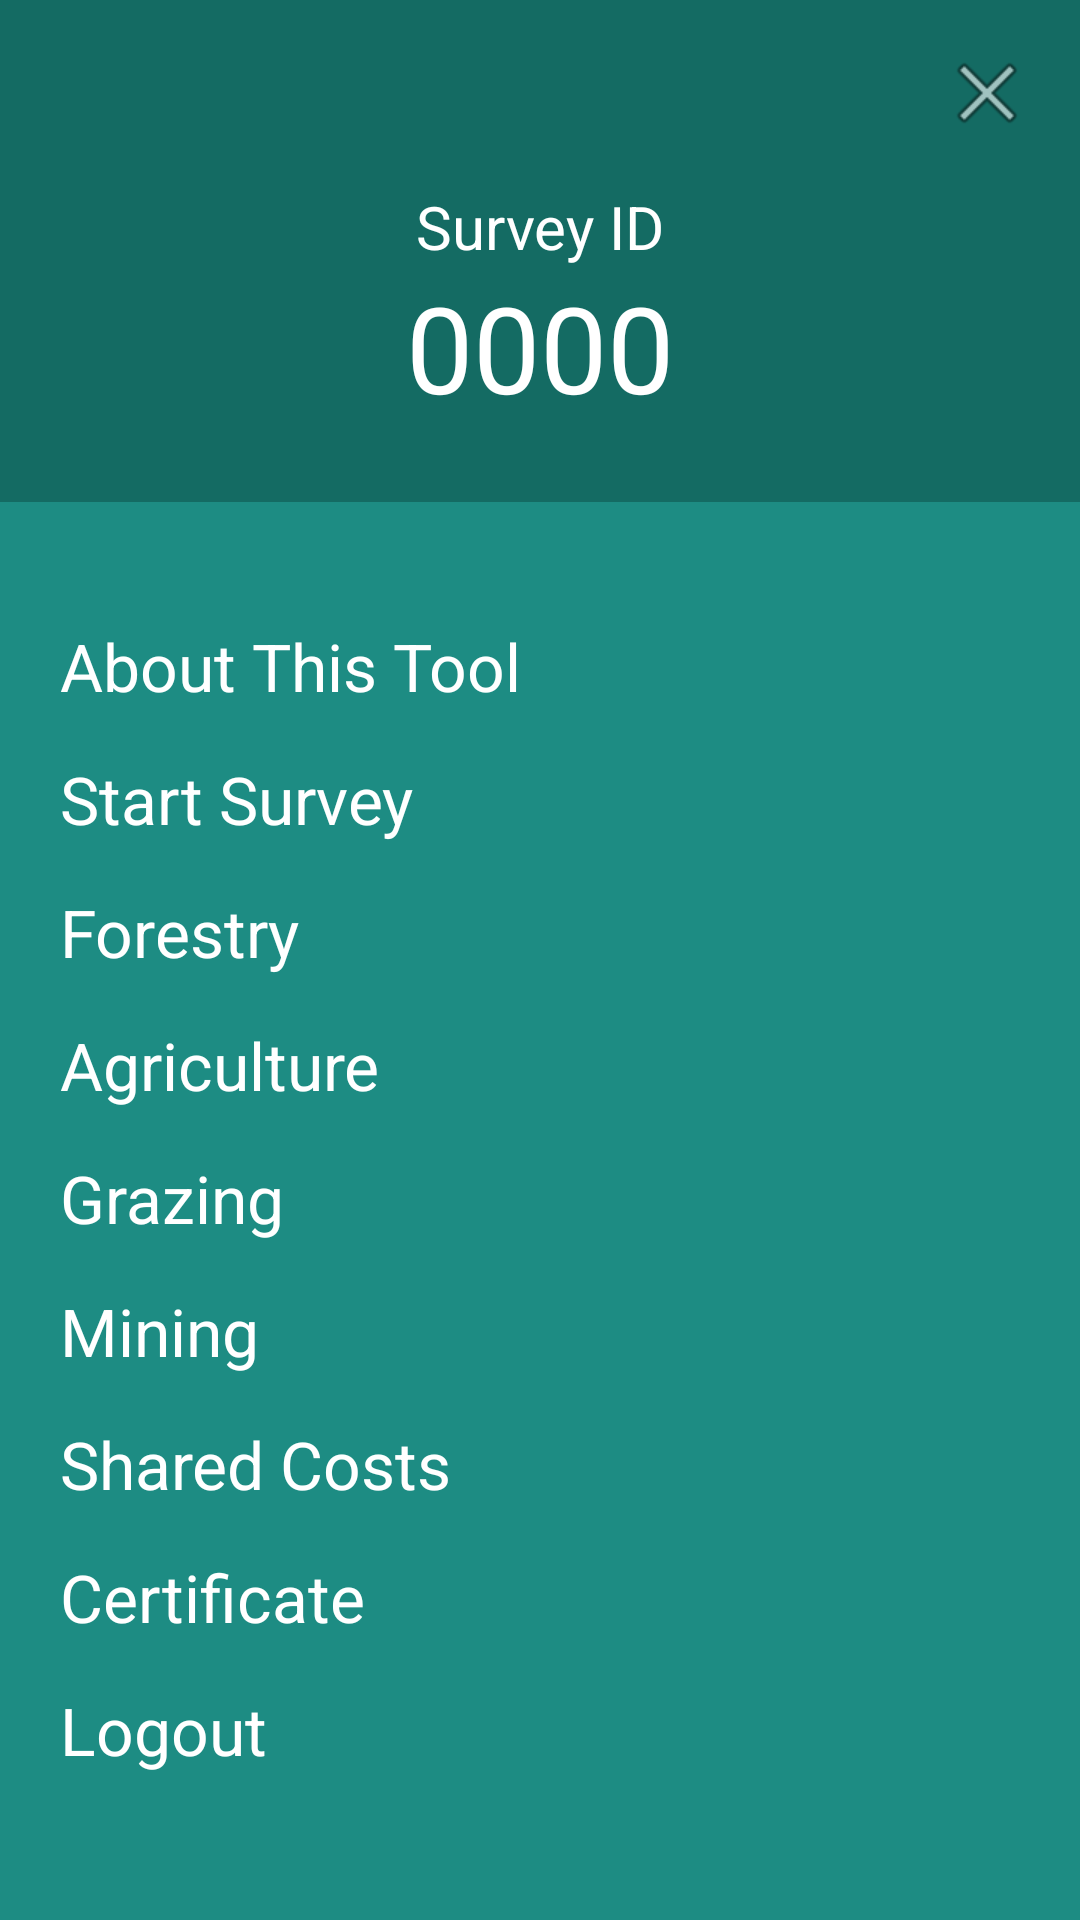

Named icons in this screenshot (1080x1920) and their centers, point (x, y):
close clear cancel: point (987, 93)
